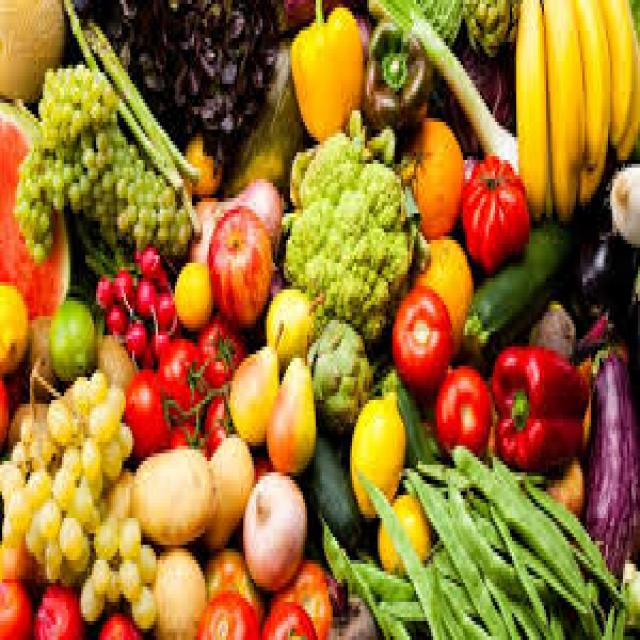organic waste: (72, 0, 282, 168), (282, 114, 428, 350), (369, 0, 516, 171), (448, 438, 582, 617), (66, 0, 183, 194), (0, 91, 92, 316), (493, 450, 599, 636), (90, 15, 198, 183), (403, 465, 506, 636), (563, 137, 638, 339), (352, 465, 437, 636), (461, 221, 567, 354), (525, 465, 627, 602), (222, 31, 305, 194), (582, 343, 638, 583), (444, 480, 548, 606), (488, 346, 586, 464), (288, 0, 363, 137), (130, 442, 218, 548), (433, 46, 512, 156), (188, 175, 282, 263), (459, 148, 529, 266), (512, 0, 550, 217), (409, 232, 472, 358), (316, 514, 380, 636), (239, 468, 303, 590), (207, 202, 271, 324), (98, 164, 190, 248), (542, 0, 576, 217), (348, 389, 405, 518), (305, 316, 371, 427), (401, 114, 461, 236), (572, 0, 608, 202), (303, 423, 360, 548), (264, 332, 316, 468), (570, 0, 612, 164), (34, 130, 122, 206), (200, 430, 254, 552), (391, 282, 450, 392), (228, 320, 280, 442), (0, 0, 66, 95), (597, 0, 638, 141), (34, 61, 117, 129), (271, 552, 333, 636), (433, 362, 489, 453), (149, 545, 205, 636), (380, 366, 433, 461), (262, 286, 324, 362), (13, 148, 53, 263), (373, 488, 427, 572), (124, 362, 170, 453), (197, 312, 246, 388), (72, 210, 134, 270), (431, 560, 482, 632), (86, 145, 136, 217), (49, 294, 92, 374), (324, 572, 376, 636), (350, 556, 414, 606), (156, 336, 198, 412), (460, 0, 516, 53), (616, 23, 638, 156), (171, 255, 211, 328), (192, 591, 256, 636), (203, 545, 256, 598), (32, 579, 81, 636), (482, 572, 525, 636), (179, 126, 220, 190), (96, 328, 132, 396), (437, 548, 474, 614), (527, 293, 572, 347), (608, 160, 638, 240), (542, 454, 584, 511), (418, 457, 469, 503), (0, 282, 26, 366), (166, 168, 198, 236), (26, 312, 53, 392), (258, 598, 314, 636), (412, 0, 461, 42), (202, 384, 232, 450), (0, 575, 32, 636), (8, 396, 45, 446), (616, 556, 638, 629), (102, 465, 132, 518), (280, 0, 337, 27), (0, 534, 34, 576), (378, 598, 412, 636), (26, 434, 60, 472), (94, 610, 143, 636), (2, 488, 28, 537), (45, 396, 70, 446), (378, 594, 422, 621), (510, 598, 540, 636), (24, 464, 51, 506), (130, 274, 156, 316), (58, 510, 79, 560), (166, 419, 203, 446), (34, 499, 60, 537), (132, 240, 160, 274), (66, 369, 88, 412), (66, 534, 88, 576), (132, 583, 154, 625), (136, 541, 156, 587), (115, 514, 139, 552), (79, 438, 100, 480), (26, 430, 51, 465), (151, 290, 173, 328), (6, 434, 28, 472), (124, 320, 145, 358), (79, 576, 100, 614), (79, 438, 100, 476), (94, 522, 117, 556), (86, 408, 116, 434), (56, 468, 74, 511), (102, 381, 124, 415), (98, 438, 117, 476), (0, 457, 19, 495), (147, 328, 171, 358), (102, 301, 126, 331), (21, 408, 45, 438), (58, 442, 79, 476), (0, 377, 9, 450), (600, 602, 625, 628), (111, 266, 128, 304), (81, 503, 100, 537), (88, 369, 106, 404), (120, 560, 136, 598), (41, 537, 58, 572), (113, 423, 130, 457), (77, 480, 96, 510), (90, 556, 106, 591), (26, 530, 47, 556), (94, 270, 111, 301), (141, 339, 156, 362), (107, 564, 117, 598), (156, 266, 168, 290)
